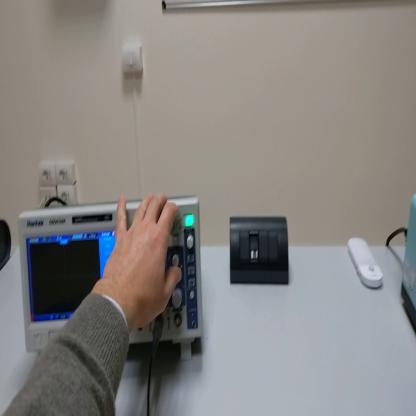hand: (104, 191, 182, 328)
oscilloscope: (18, 186, 208, 372)
socket: (2, 219, 12, 273)
welder station: (401, 200, 416, 332)
